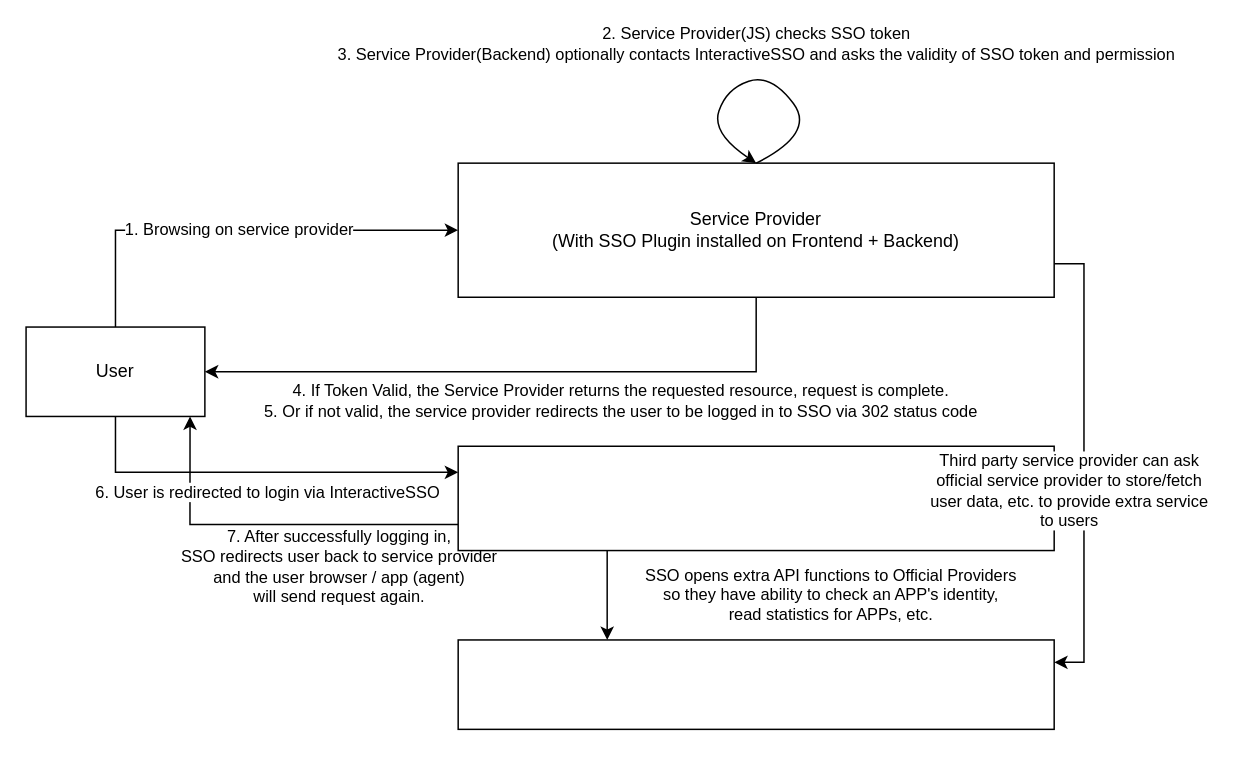
This 1234x757 diagram has some shape labels left out. The shapes that lost their labels are listed below. From the top down, each one's box as (x1, y1, x2, y2) in pixels, then its label:
(457, 445, 1054, 551): InteractiveSSO (Identity Provider)
(457, 638, 1054, 729): Official Service Provider
